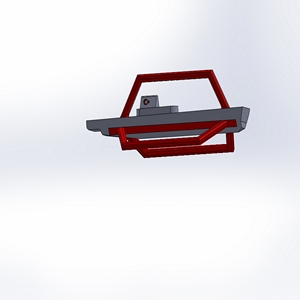submarine: (87, 61, 258, 178)
